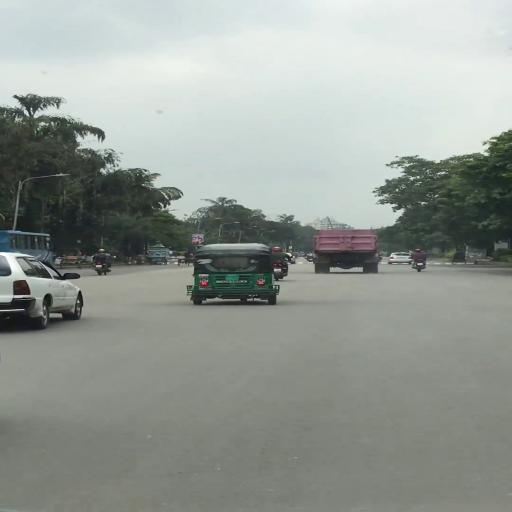car: (388, 253, 414, 266)
motorbike: (271, 249, 294, 283), (91, 249, 118, 276), (411, 250, 429, 274)
rickshaw: (58, 251, 86, 270), (450, 252, 468, 267)
suv: (2, 253, 88, 331)
three wheelers (CNG): (186, 244, 282, 307)
